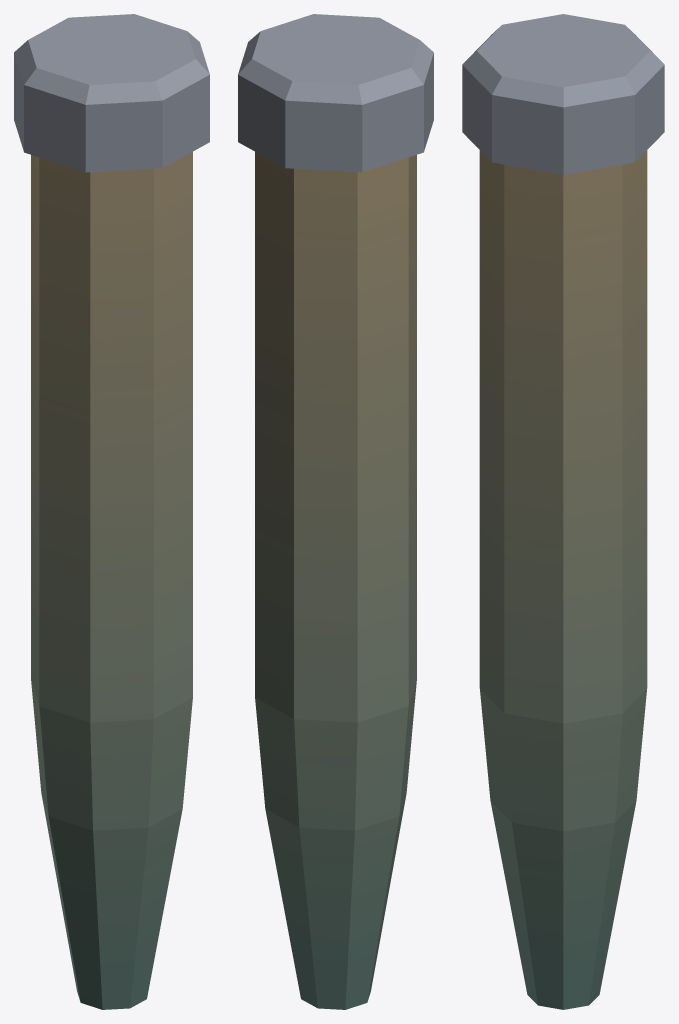
File: SM_Props_Laboratory_14.fbx
The picture shows the model from 3 angles, left to right: view 1: azimuth 30°, elevation 25°; view 2: azimuth 150°, elevation 25°; view 3: azimuth 270°, elevation 25°; orthographic projection.
Visible parts, largest first — view 1: SM_Props_Laboratory_14; view 2: SM_Props_Laboratory_14; view 3: SM_Props_Laboratory_14.
Part boxes in pixels (x1,y1,x2,y2): SM_Props_Laboratory_14: [14, 14, 209, 1009]; SM_Props_Laboratory_14: [238, 14, 433, 1009]; SM_Props_Laboratory_14: [462, 14, 664, 1009].
Size of the model in its own units: 0.0339 by 0.1745 by 0.0339.
